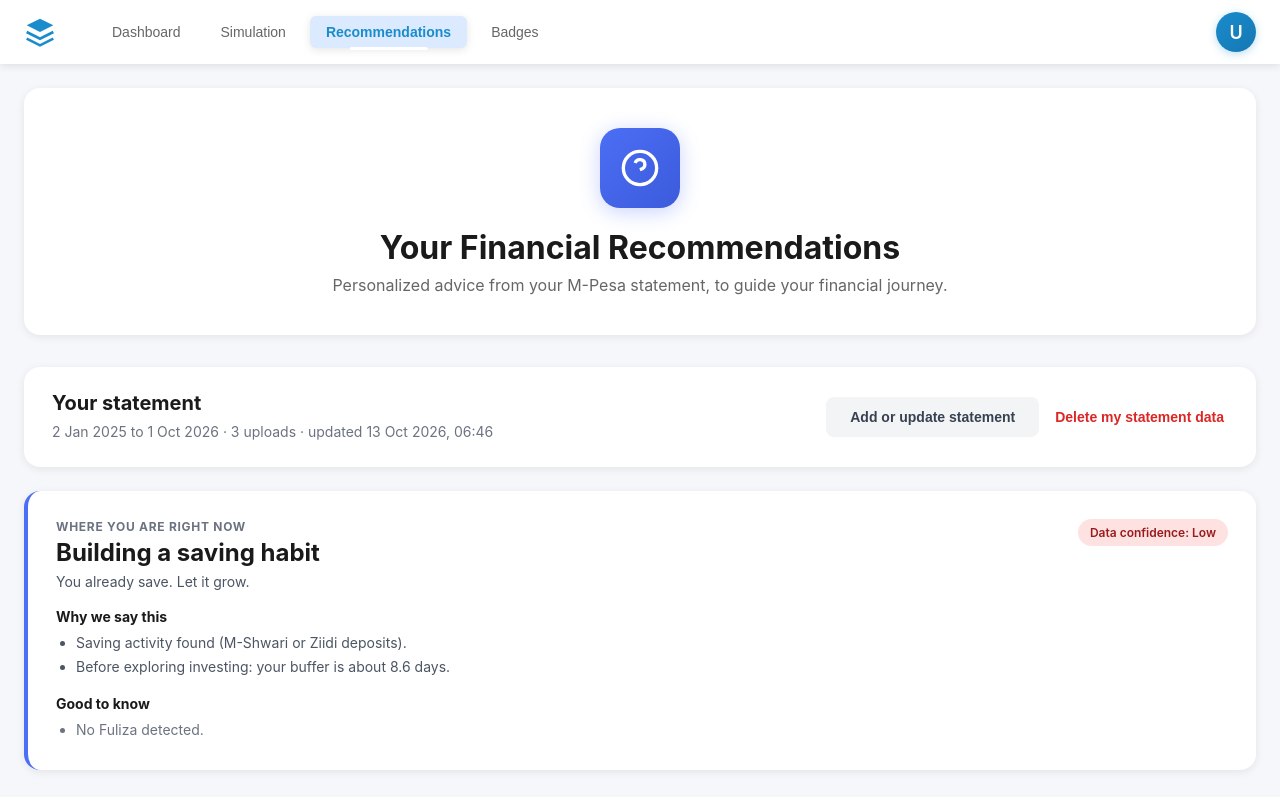
Test: with recommendations › adds a newer statement from the same page and can cancel
This screenshot has width=1280, height=797.
Check: the field labelled "Statement password" is not shown
Click the button "Add or update statement". click: [933, 417]
box: [826,397,1039,437]
(page scrolled)
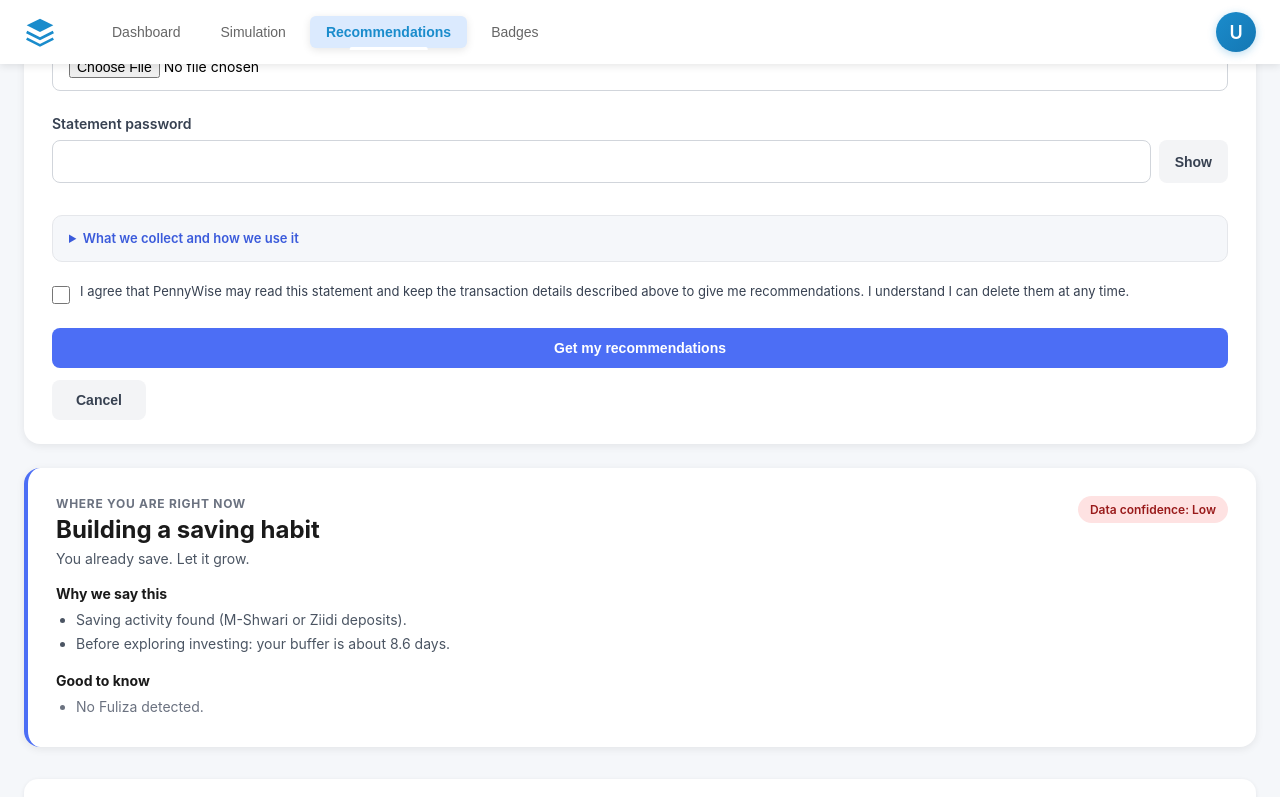
Check: the password field labelled "Statement password" is shown, box [52,140,1151,183]
Click the button "Cancel". click: [99, 400]
box: [52,380,146,420]
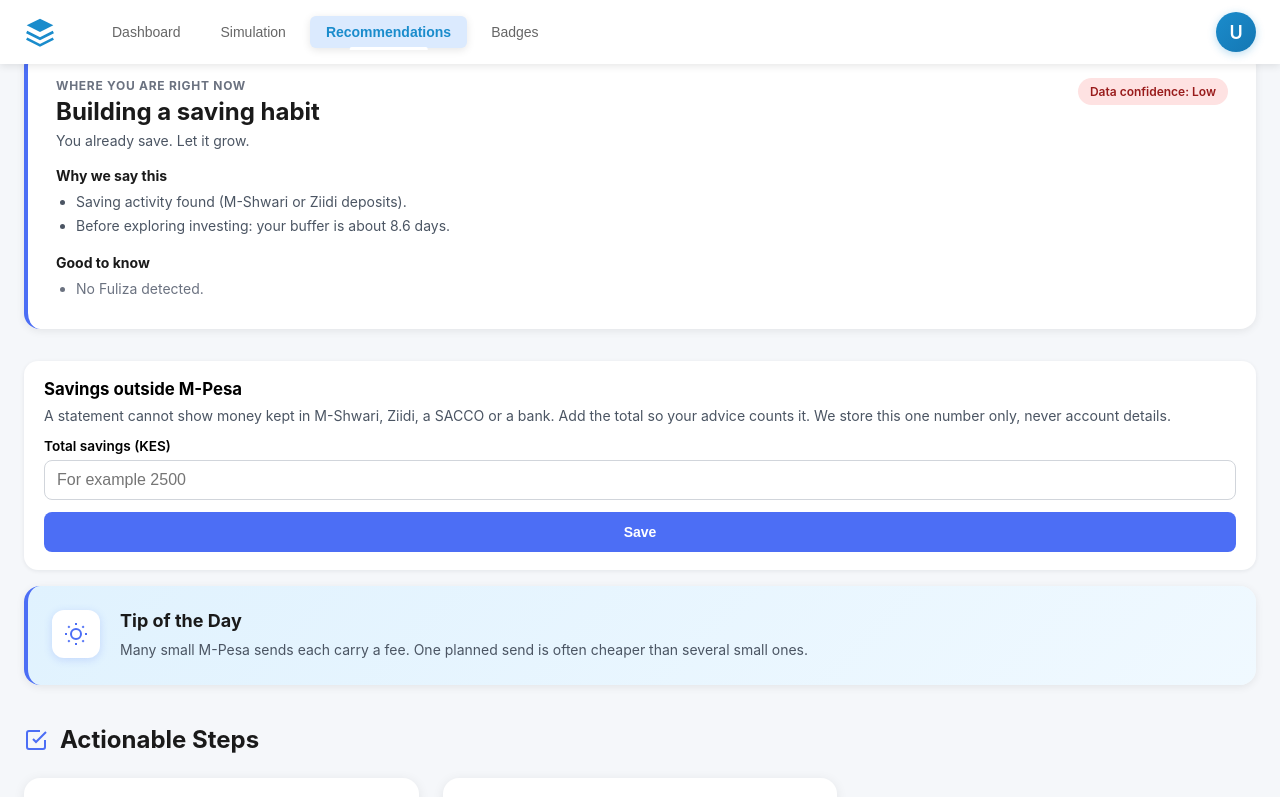
Check: the label labelled "Statement password" is gone
